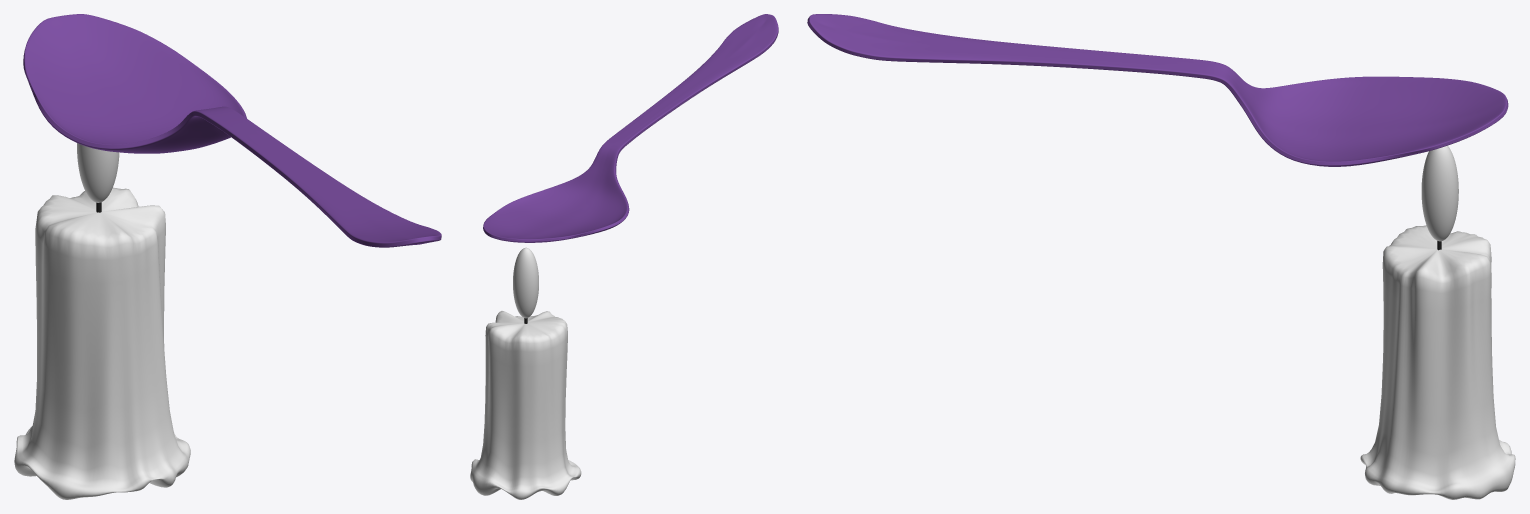
The model's file is 5. Heroin bakar.fbx.
The picture shows the model from 3 angles, left to right: view 1: azimuth 30°, elevation 25°; view 2: azimuth 150°, elevation 25°; view 3: azimuth 270°, elevation 25°; orthographic projection. The views are drawn at different scales.
Visible parts, largest first — view 1: lilin, sendok, api; view 2: lilin, sendok, api; view 3: lilin, sendok, api.
Boxes of the visible parts, box(x1,y1,x2,y2) form: lilin: box(14, 187, 190, 499); sendok: box(23, 14, 441, 247); api: box(77, 143, 119, 202); lilin: box(470, 311, 581, 499); sendok: box(483, 14, 778, 242); api: box(513, 247, 538, 318); lilin: box(1360, 225, 1515, 499); sendok: box(807, 14, 1508, 166); api: box(1421, 145, 1458, 241).
Bounding box in the file's own units: 130 × 356 × 514.
